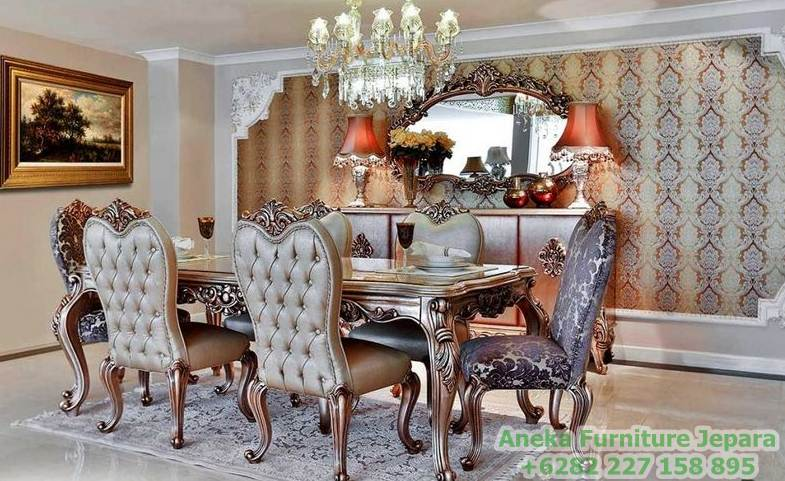Carving Chair: (231, 212, 424, 478), (462, 204, 618, 481)
Carving Table: (124, 236, 538, 470)
